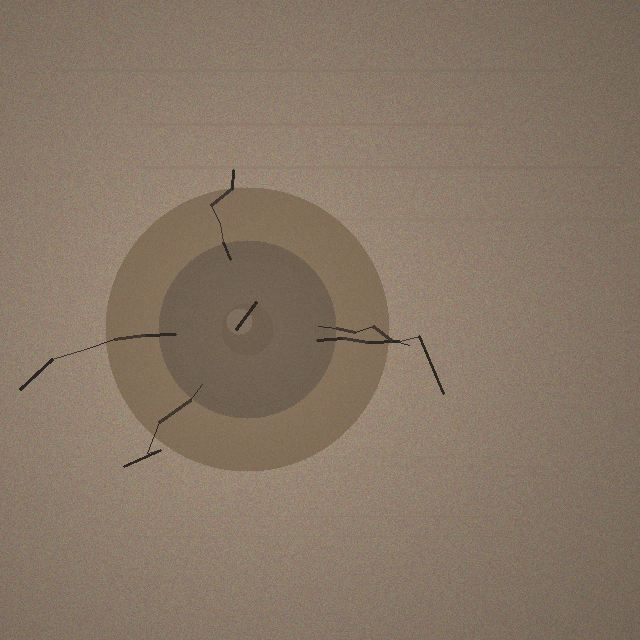crack: (105, 187, 389, 471)
